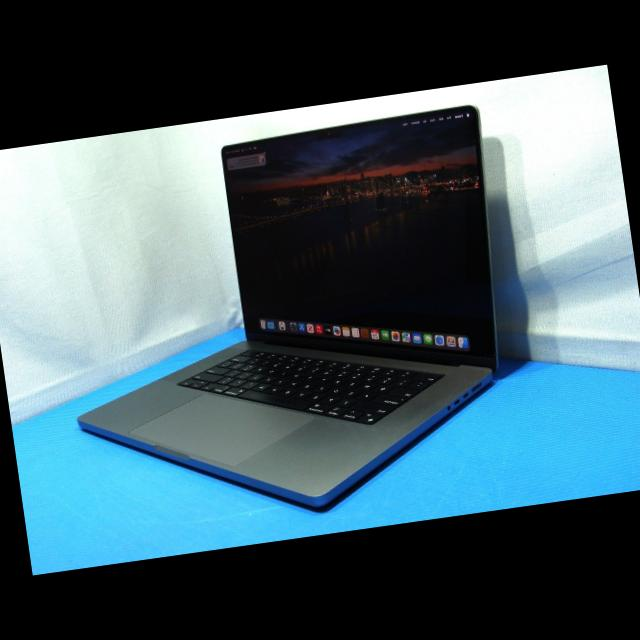laptop: (34, 85, 544, 560)
